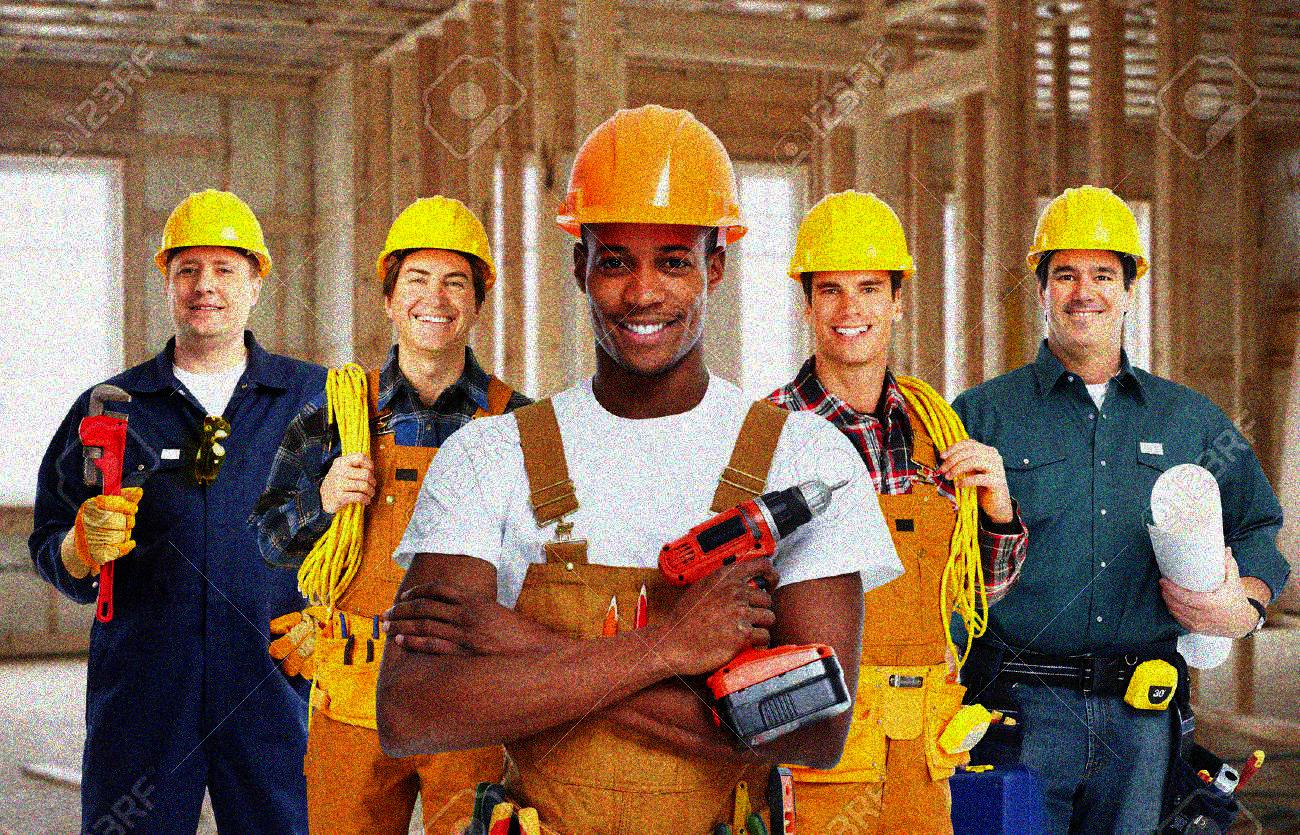helmet: (552, 102, 751, 375), (786, 189, 919, 364), (1024, 183, 1153, 350), (373, 193, 499, 350), (153, 186, 273, 339)
